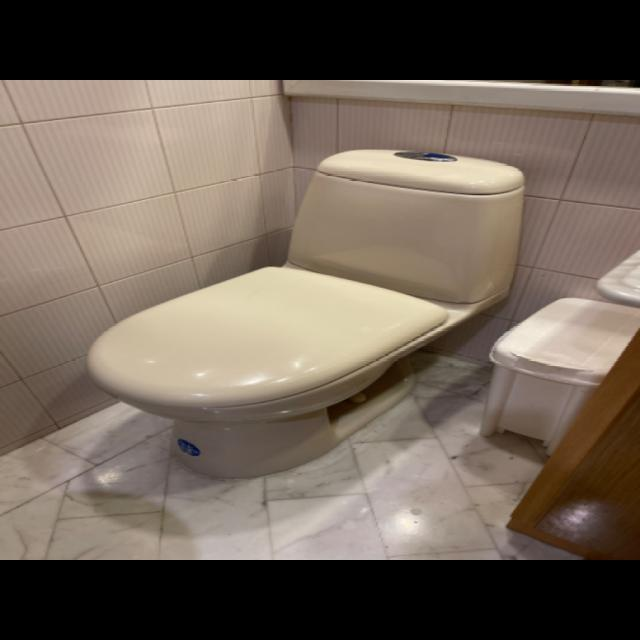toilet: (85, 147, 526, 479)
